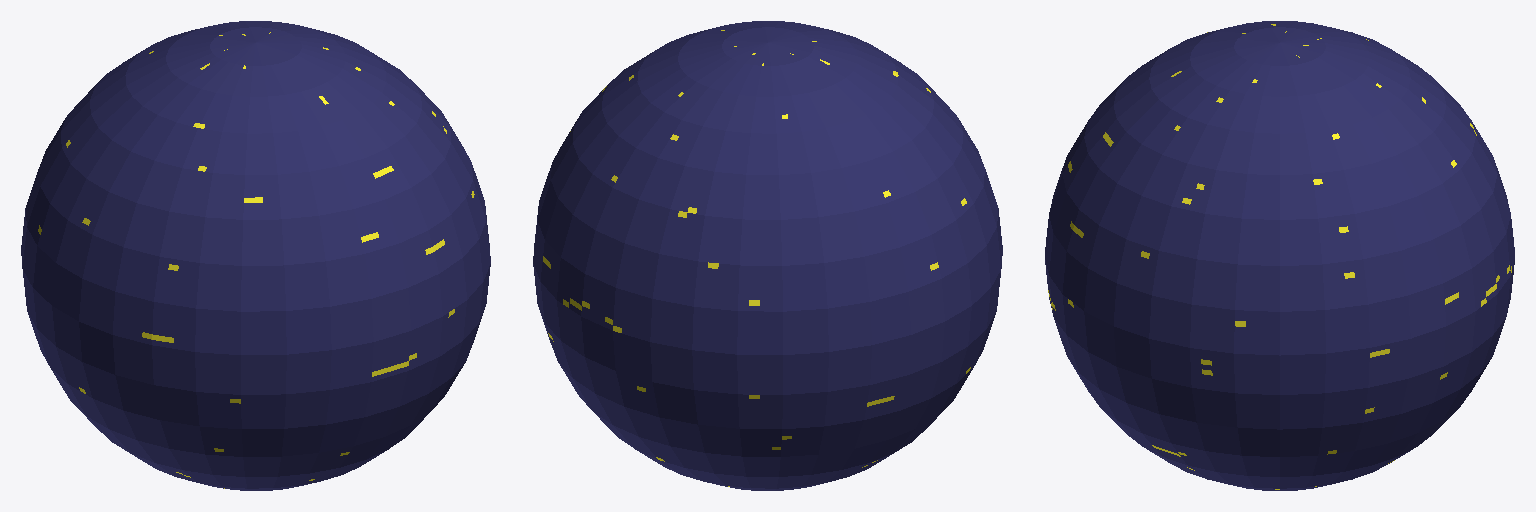
3 renders of one model, left to right at view 1: azimuth 30°, elevation 25°; view 2: azimuth 150°, elevation 25°; view 3: azimuth 270°, elevation 25°, orthographic.
Parts seen in each view (by area): view 1: 球; view 2: 球; view 3: 球.
Boxes of the visible parts, x1,y1,x2,y2 form: 球: [21, 21, 490, 490]; 球: [533, 21, 1002, 490]; 球: [1045, 21, 1514, 490].
Bounding box in the file's own units: 2 × 2 × 2.
Materials: 1 (1 with a texture image).